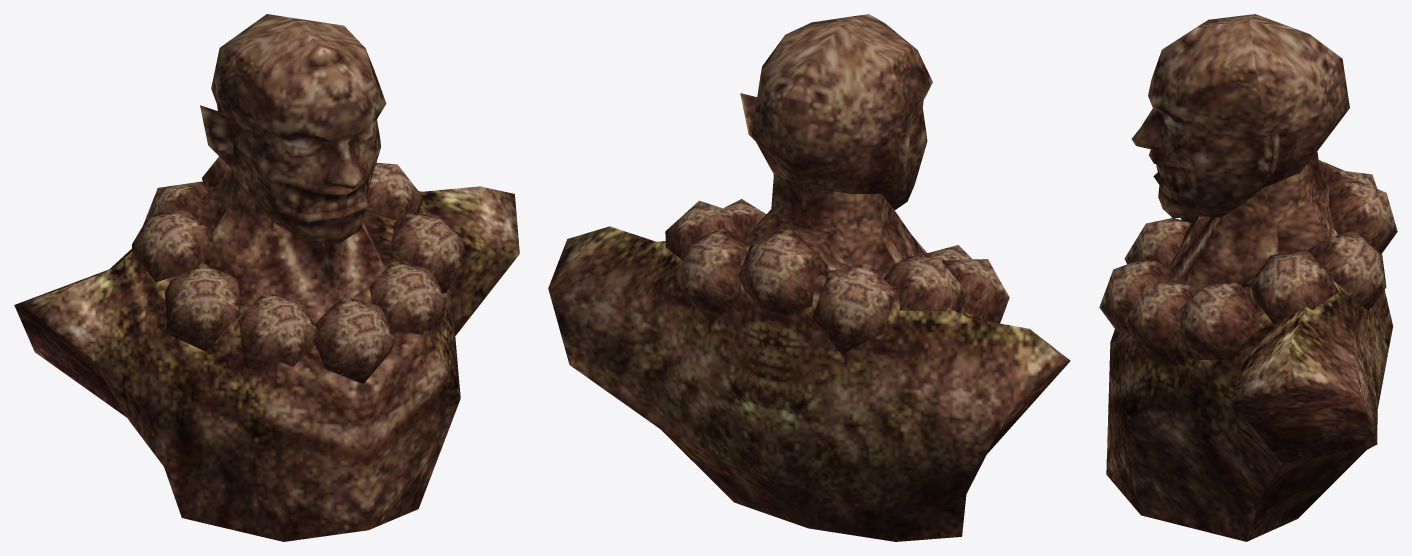
The model's file is general_obj_stoneimage01.fbx.
The picture shows the model from 3 angles, left to right: view 1: azimuth 30°, elevation 25°; view 2: azimuth 150°, elevation 25°; view 3: azimuth 270°, elevation 25°; orthographic projection. The views are drawn at different scales.
Visible parts, largest first — view 1: Sphere01; view 2: Sphere01; view 3: Sphere01.
Part boxes in pixels (box(x1,y1,x2,y2)): Sphere01: box(14, 14, 519, 541); Sphere01: box(548, 14, 1070, 541); Sphere01: box(1099, 14, 1397, 541).
Bounding box in the file's own units: 5.85 × 5.41 × 3.15.
